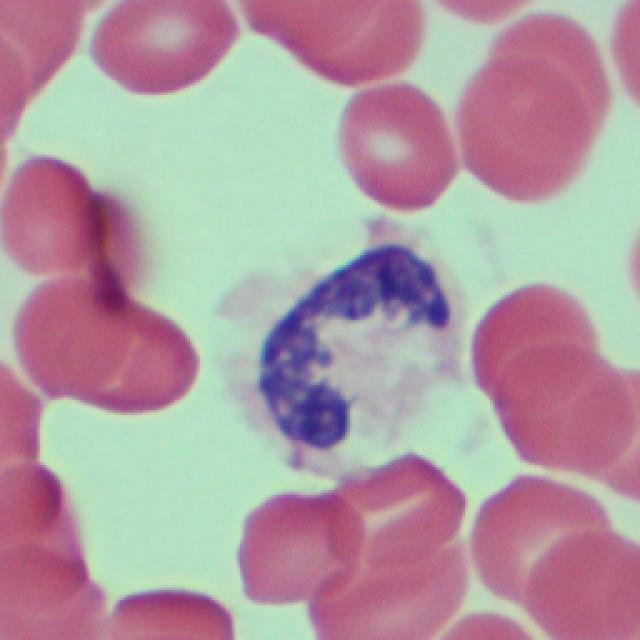RBC: (474, 274, 620, 491), (454, 9, 603, 210), (469, 469, 640, 640), (320, 442, 465, 640), (15, 273, 199, 410), (1, 458, 105, 640), (330, 71, 456, 218), (232, 483, 364, 619), (2, 149, 112, 295), (86, 0, 242, 97), (234, 0, 419, 77), (608, 1, 640, 112)
WBC: (208, 208, 481, 463)
